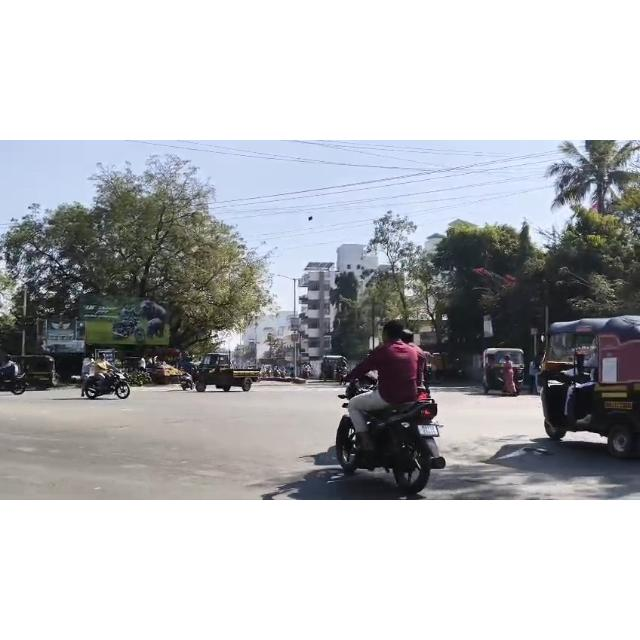auto: (537, 313, 640, 460), (482, 345, 527, 400), (10, 348, 62, 388)
